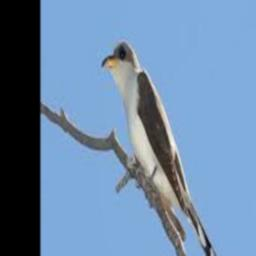Cuckoo: (102, 40, 228, 256)
